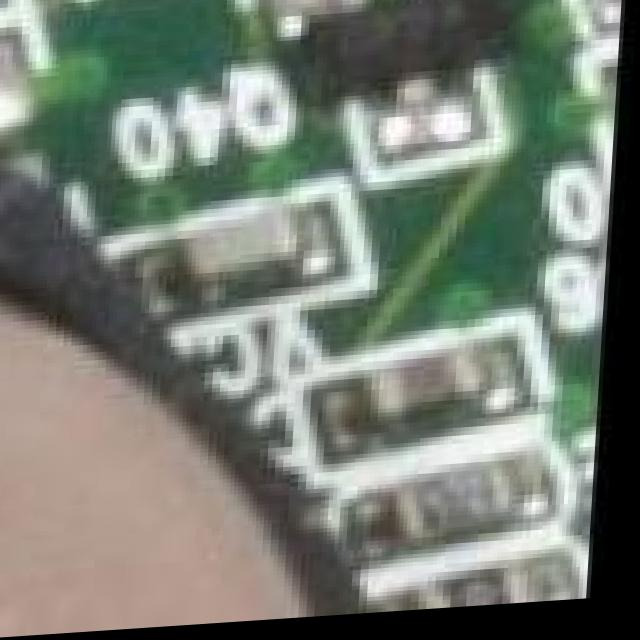battery: (0, 88, 527, 640)
capacitor: (343, 344, 515, 439), (162, 206, 340, 287)
resistor: (364, 469, 567, 571), (418, 560, 576, 617)
